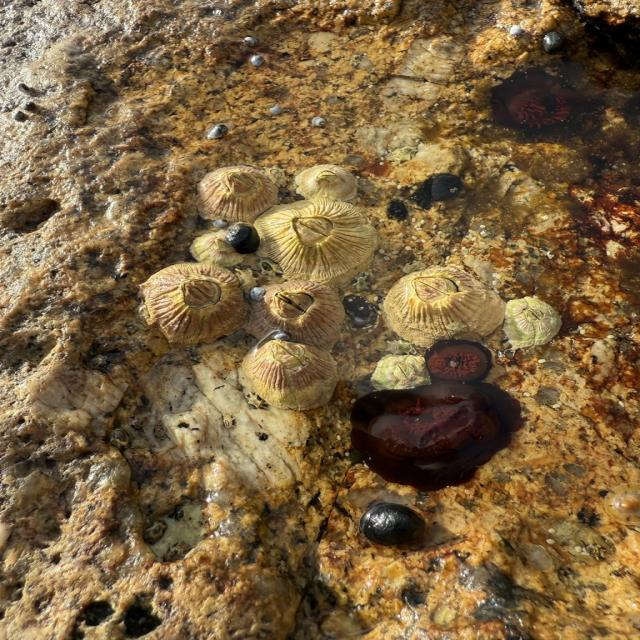barnacles: (255, 200, 386, 290), (382, 262, 506, 346), (144, 268, 256, 346), (237, 344, 341, 419), (255, 285, 352, 345), (197, 157, 273, 219), (293, 159, 367, 205)
